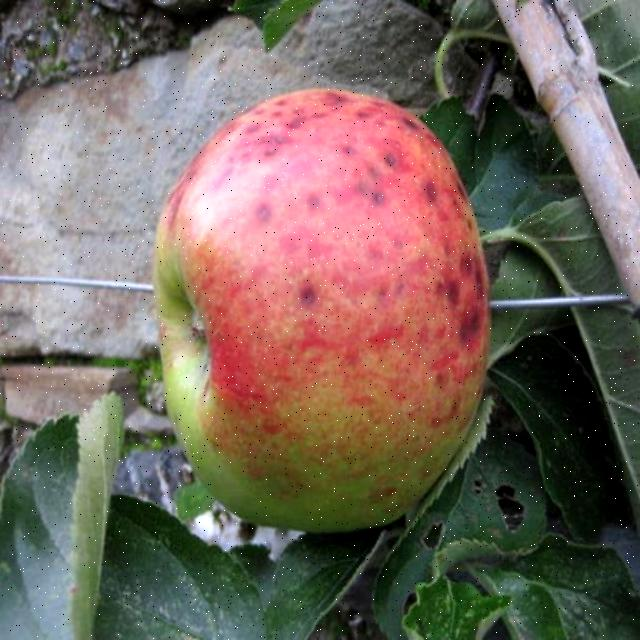BLOTCH: (154, 60, 510, 538)
